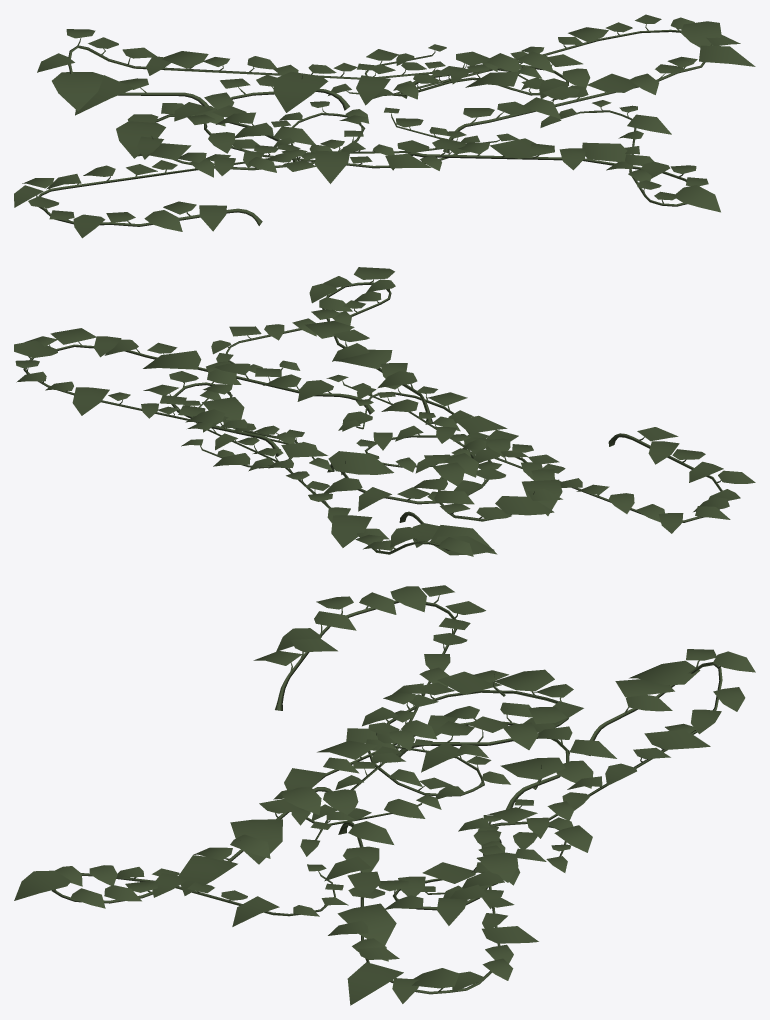
Rendered from scene_Ivy2.fbx.
The picture shows the model from 3 angles, top to bottom: view 1: azimuth 30°, elevation 25°; view 2: azimuth 150°, elevation 25°; view 3: azimuth 270°, elevation 25°; orthographic projection. The views are drawn at different scales.
Parts seen in each view (by area): view 1: Ivy2; view 2: Ivy2; view 3: Ivy2.
Boxes of the visible parts, x1=… form: Ivy2: x1=14, y1=14, x2=755, y2=238; Ivy2: x1=14, y1=267, x2=755, y2=556; Ivy2: x1=14, y1=585, x2=755, y2=1005.
Size of the model in its own units: 7.24 by 0.4861 by 5.51.
